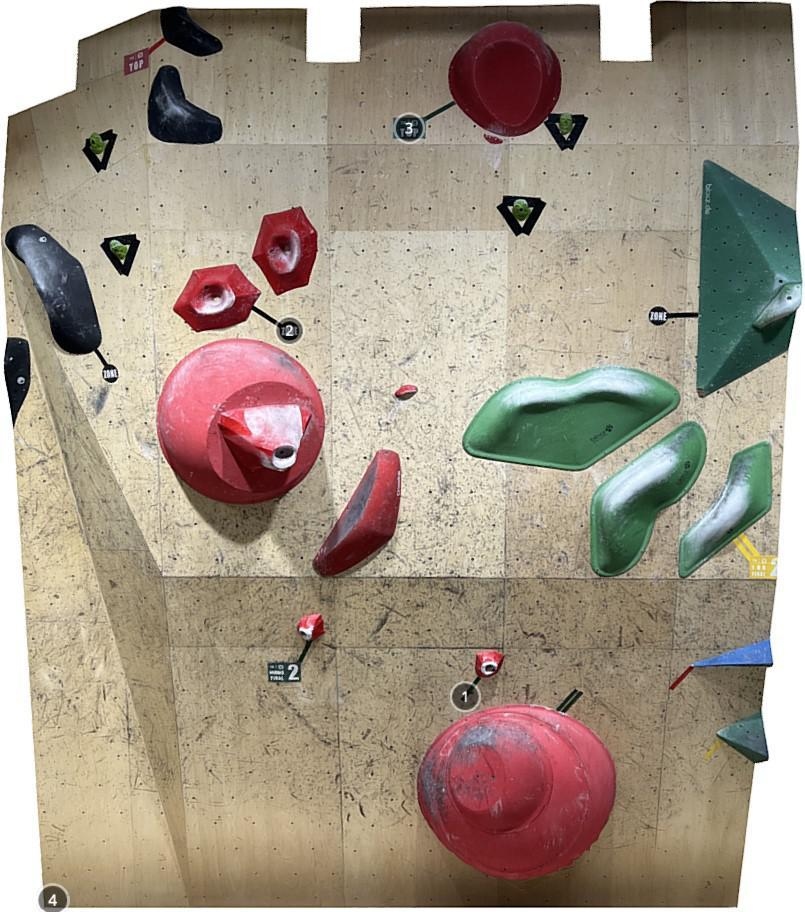hold: (417, 705, 616, 881), (155, 339, 324, 506), (462, 366, 680, 471), (589, 423, 706, 576), (448, 19, 563, 138), (679, 442, 773, 578), (5, 224, 101, 355), (311, 448, 401, 578), (217, 397, 314, 472), (171, 264, 262, 332), (148, 64, 223, 144), (252, 206, 317, 295), (161, 6, 224, 58), (4, 336, 31, 430), (688, 638, 774, 667), (753, 282, 803, 330), (496, 195, 548, 237), (100, 233, 140, 277), (544, 114, 590, 152), (82, 129, 118, 174), (297, 613, 327, 641), (475, 650, 504, 678), (395, 386, 418, 398), (483, 134, 503, 144)
volume: (696, 159, 802, 398), (716, 712, 769, 764)
